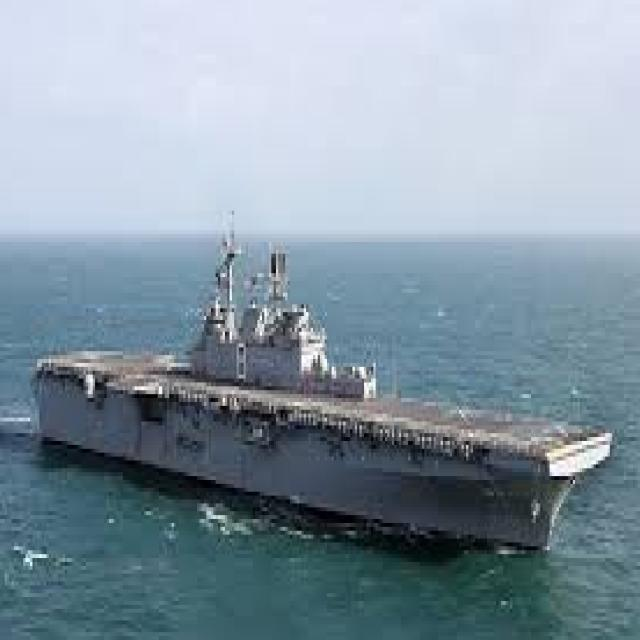navalvessels: (26, 227, 614, 577)
